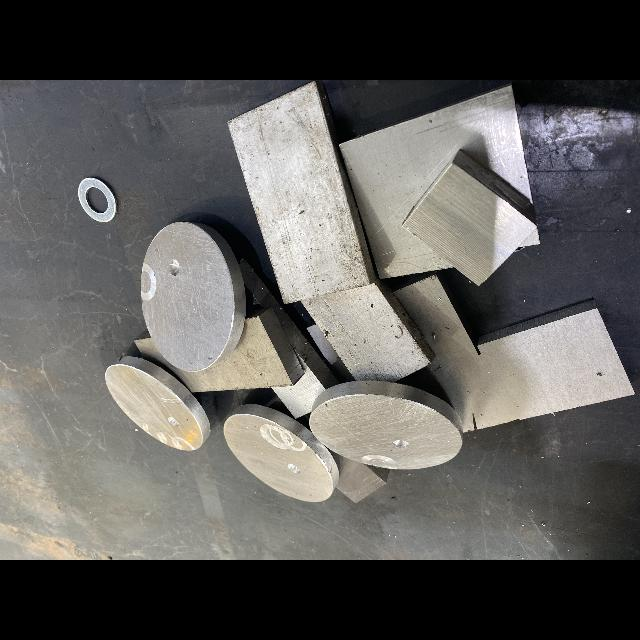Aluminium: (392, 274, 636, 432), (342, 83, 534, 279), (227, 81, 376, 304), (402, 148, 537, 286), (239, 259, 341, 419), (141, 222, 246, 372), (133, 307, 304, 393), (301, 277, 436, 382), (309, 381, 462, 469), (224, 404, 339, 502), (105, 356, 210, 451), (327, 449, 391, 504), (307, 324, 355, 382), (519, 230, 540, 247)
Ferrous Metal: (78, 177, 116, 222)
